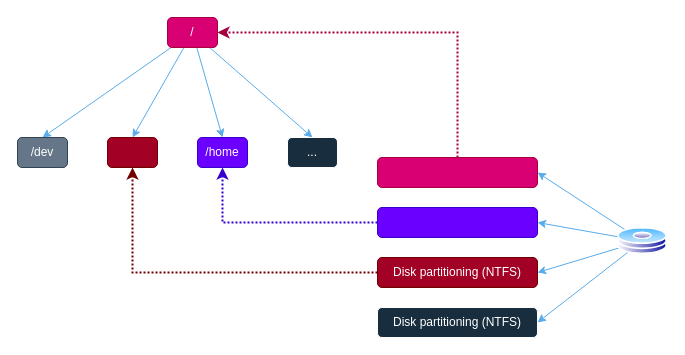
This 685x355 diagram has some shape labels left out. Each missing label, with the centre of its shape:
/bin: pixel 132 152
Disk partitioning (FAT16): pixel 457 172
Disk partitioning (FAT32): pixel 457 222
